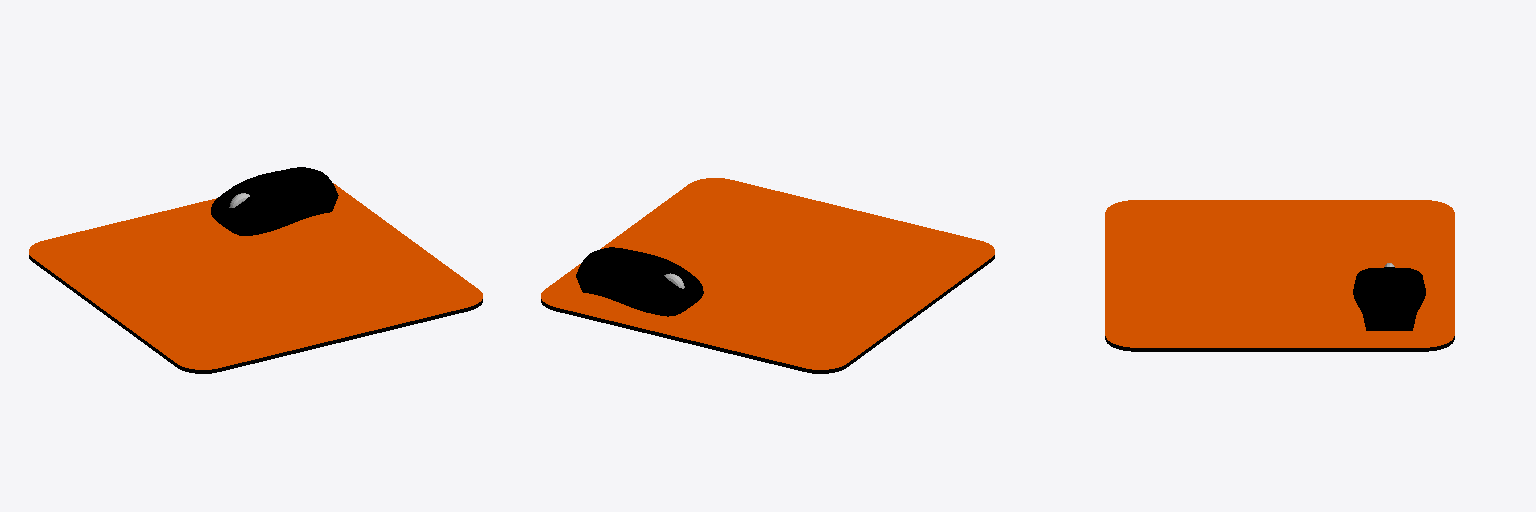
File: mouseandpad.obj
3 renders of one model, left to right at view 1: azimuth 30°, elevation 25°; view 2: azimuth 150°, elevation 25°; view 3: azimuth 270°, elevation 25°, orthographic.
Parts seen in each view (by area): view 1: Object001, Box002, Rectangle001; view 2: Object001, Box002, Rectangle001; view 3: Object001, Box002, Rectangle001.
Part boxes in pixels (x1,y1,x2,y2): Object001: (29, 183, 482, 369); Box002: (211, 167, 338, 235); Rectangle001: (29, 255, 482, 373); Object001: (541, 178, 994, 369); Box002: (576, 247, 703, 316); Rectangle001: (541, 255, 994, 373); Object001: (1105, 200, 1454, 347); Box002: (1353, 267, 1425, 330); Rectangle001: (1105, 336, 1454, 351).
Bounding box in the file's own units: 10 × 1.38 × 10.